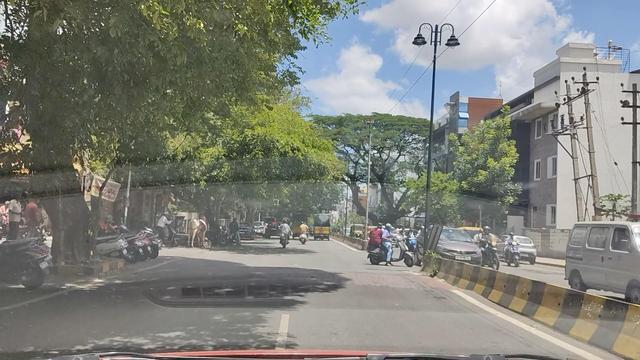LMV: (368, 224, 407, 268)
